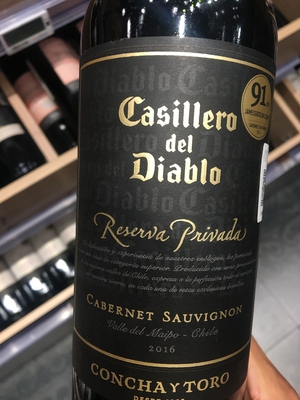casillero del diablo reserva privada cabernet sauvignon: (64, 8, 295, 399)
